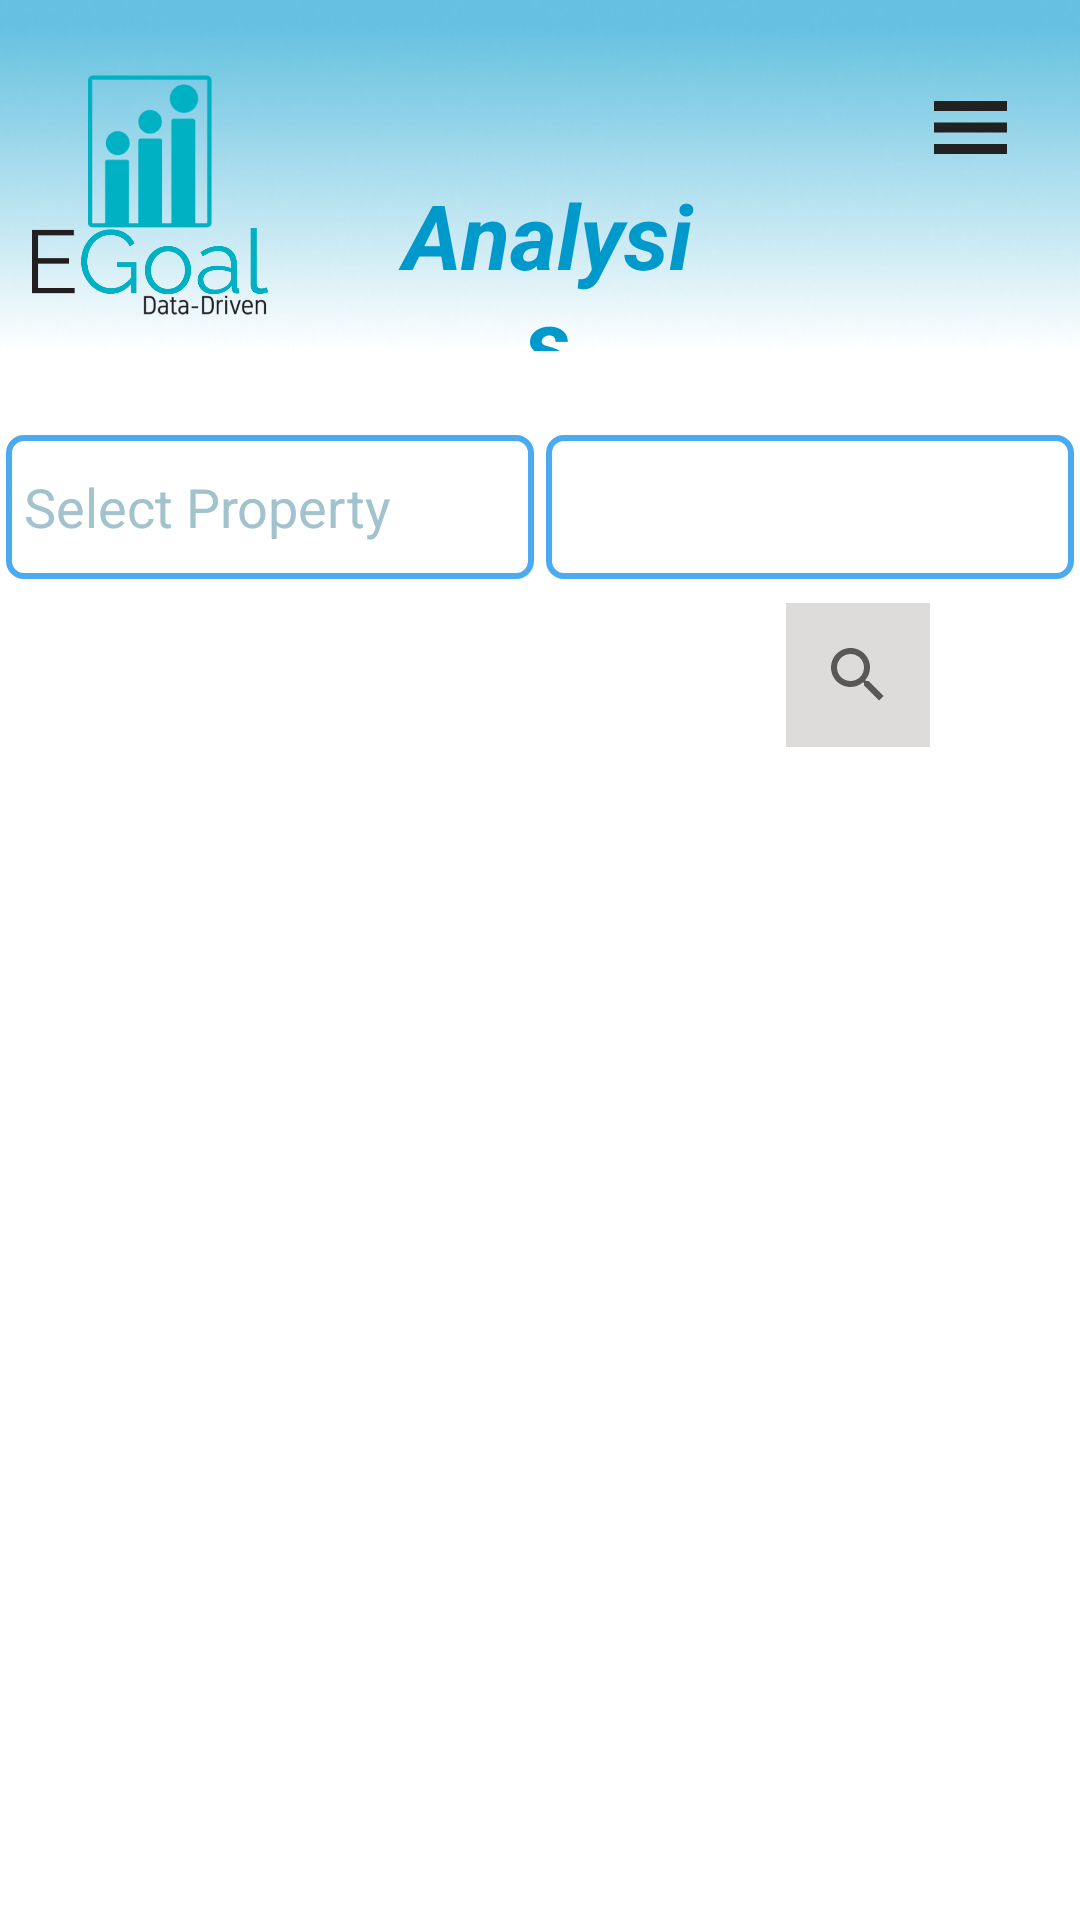

Point at icon controls on the screen. Image size 1080x1920, points as point (x, y).
Menu Icon Description: point (970, 127)
